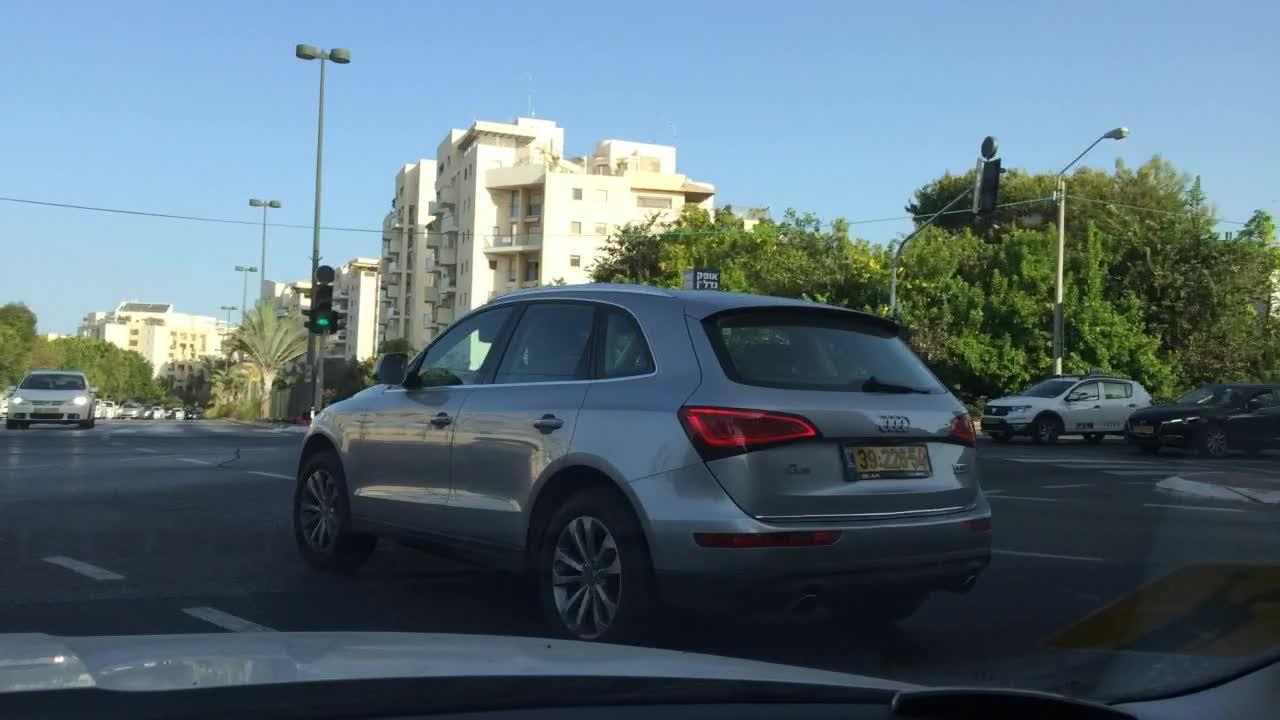Audi: (879, 414, 910, 433)
